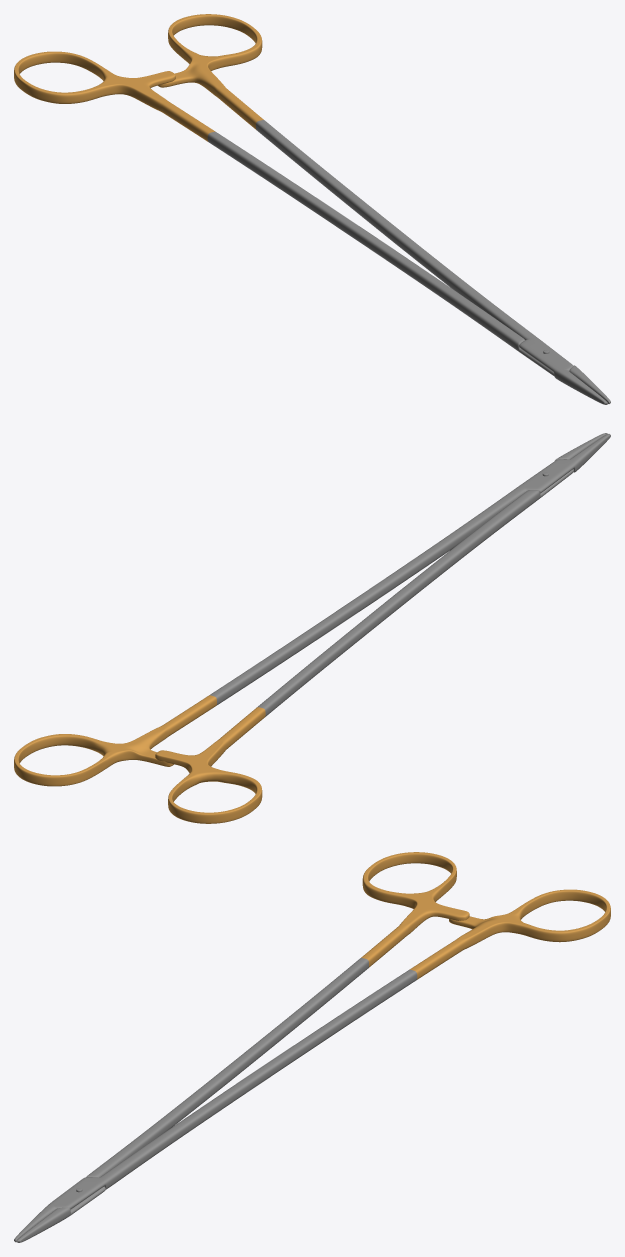
Rendered from needle_holder.glb.
3 views of the same model, one above another, from view 1: azimuth 30°, elevation 25°; view 2: azimuth 150°, elevation 25°; view 3: azimuth 330°, elevation 25° (orthographic).
Visible parts, largest first — view 1: needle_holder; view 2: needle_holder; view 3: needle_holder.
Part boxes in pixels (<box>): needle_holder: <box>14,14,610,404</box>; needle_holder: <box>14,433,610,823</box>; needle_holder: <box>14,852,610,1242</box>.
Bounding box in the file's own units: 0.0585 × 0.00289 × 0.22.
